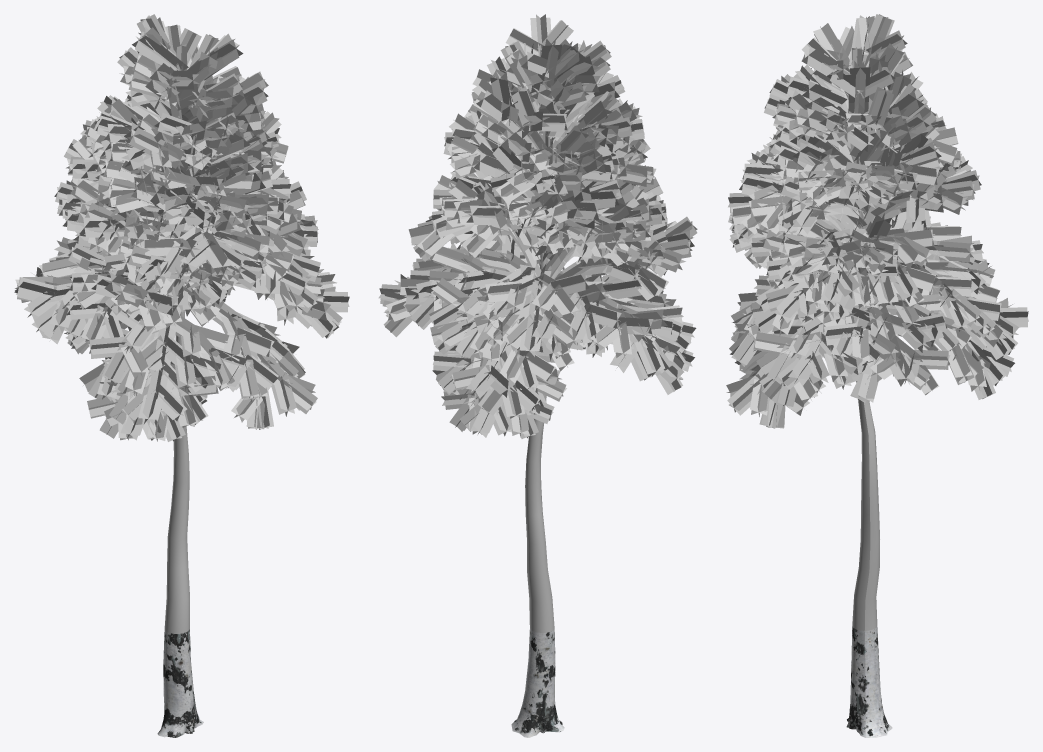
Rendered from 00 _pine 1 lod1.FBX.
3 renders of one model, left to right at view 1: azimuth 30°, elevation 25°; view 2: azimuth 150°, elevation 25°; view 3: azimuth 270°, elevation 25°, orthographic.
Visible parts, largest first — view 1: pine 002; view 2: pine 002; view 3: pine 002.
Part boxes in pixels (x1=…): pine 002: x1=14, y1=14, x2=349, y2=737; pine 002: x1=378, y1=14, x2=697, y2=737; pine 002: x1=726, y1=14, x2=1028, y2=737.
Bounding box in the file's own units: 3.58 × 8.41 × 3.28.
